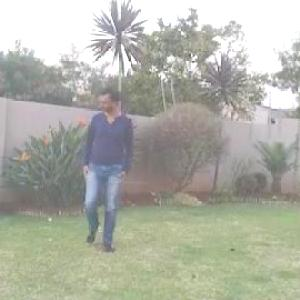follow: (78, 82, 132, 252)
